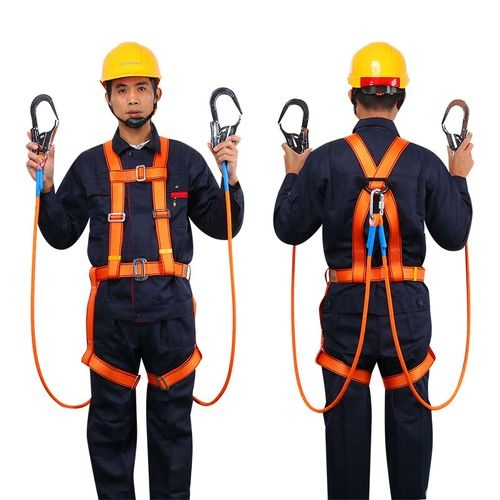safety belt: (74, 136, 224, 398), (326, 137, 462, 398)
